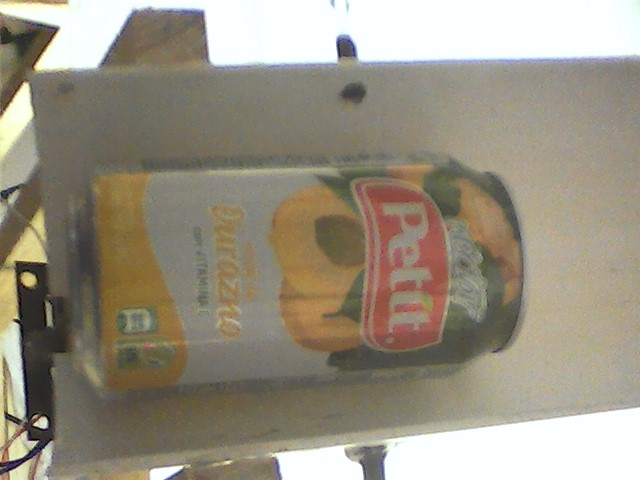lata: (64, 148, 536, 397)
